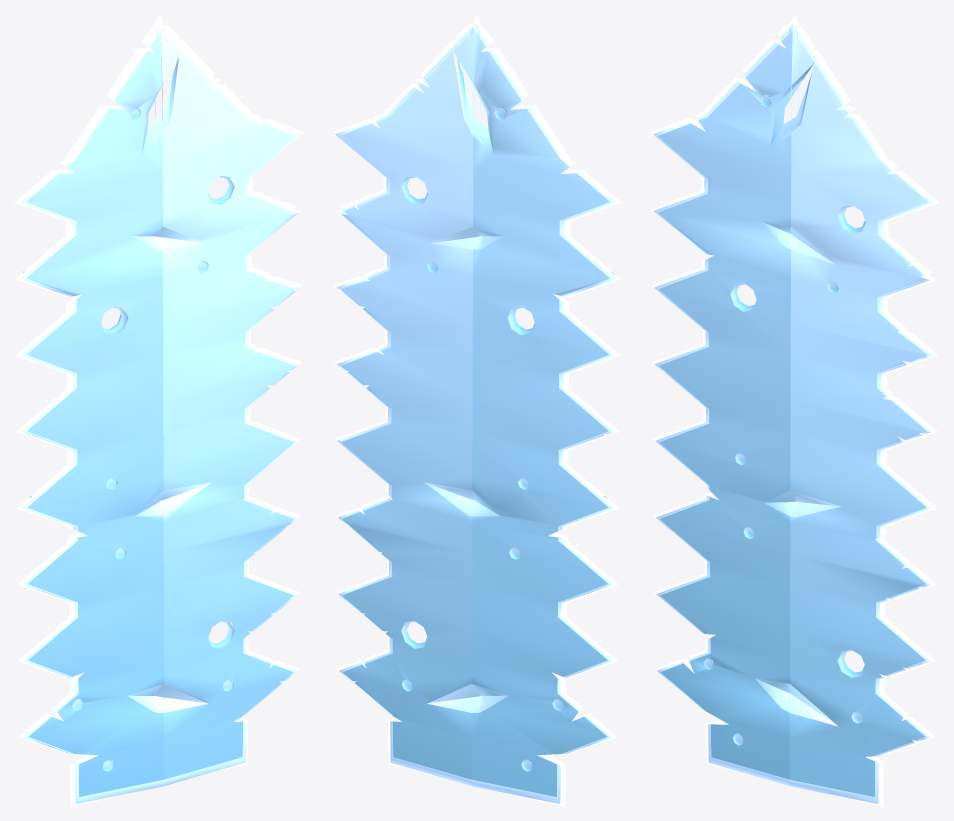
Rendered from steel_blade_bubbles_063.glb.
The picture shows the model from 3 angles, left to right: view 1: azimuth 30°, elevation 25°; view 2: azimuth 150°, elevation 25°; view 3: azimuth 330°, elevation 25°; orthographic projection.
Visible parts, largest first — view 1: steel_blade_bubbles.063; view 2: steel_blade_bubbles.063; view 3: steel_blade_bubbles.063.
Boxes of the visible parts, left/top/right/bottom form: steel_blade_bubbles.063: left=14, top=14, right=303, bottom=806; steel_blade_bubbles.063: left=332, top=14, right=621, bottom=806; steel_blade_bubbles.063: left=650, top=14, right=939, bottom=806.
Size of the model in its own units: 4.48 by 11.41 by 0.2879.
Materials: 1 (1 with a texture image).
